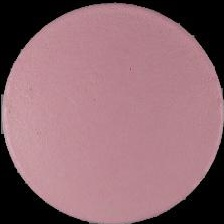67046-017: (0, 0, 224, 224)
